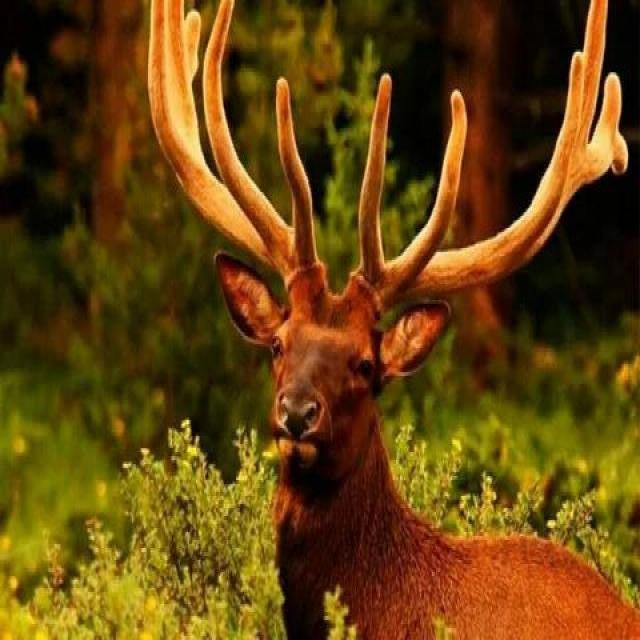deer: (156, 16, 628, 640)
